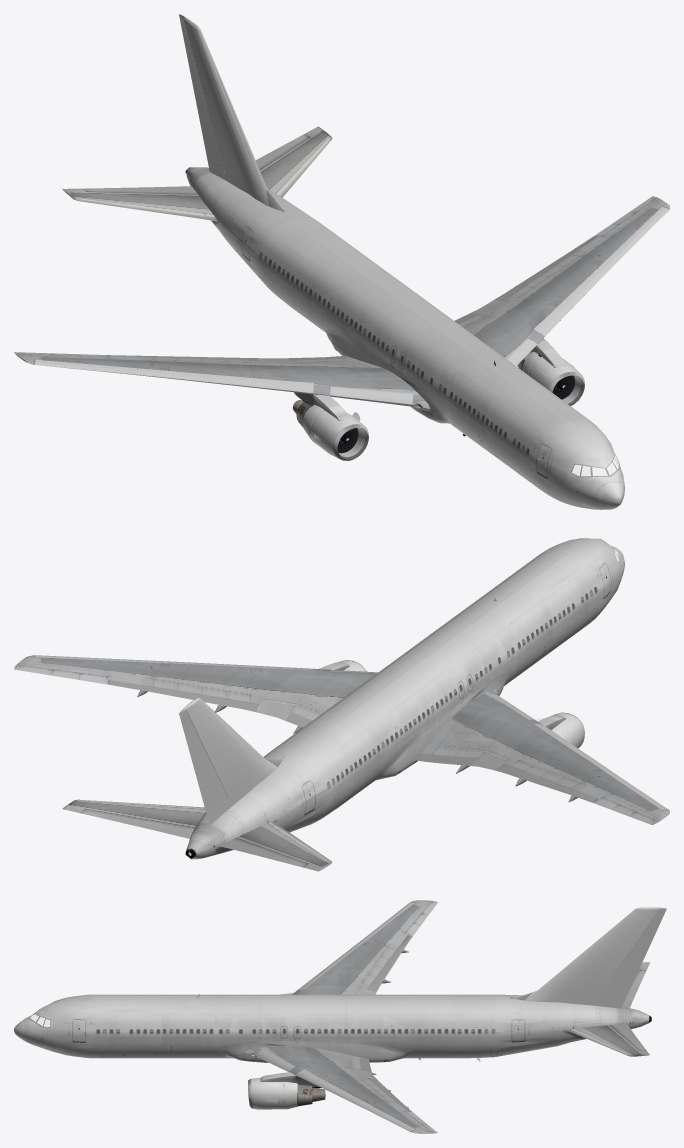
3 renders of one model, top to bottom at view 1: azimuth 30°, elevation 25°; view 2: azimuth 150°, elevation 25°; view 3: azimuth 270°, elevation 25°, orthographic. The views are drawn at different scales.
Parts seen in each view (by area): view 1: Fuselage, RWing.002, LWing.001, VStab.001, RFflapwing2, RHStab, LHStab.001, LFflapwing2, VRudder, RCapaturbofan.003, Glass_Fuselage, RFflapwing1 (+2 smaller); view 2: Fuselage, RWing.002, LWing.001, VStab.001, VRudder, LHStab.001, RHStab, LHStab, Glass_Fuselage, flapr, flap_ext_L, RHelev (+7 smaller); view 3: Fuselage, VStab.001, RWing.002, LWing.001, VRudder, Glass_Fuselage, LHStab.001, LFflapwing2, LCapaturbofan.004, RFflapwing2, LCapaturbofan.001, flap_ext_R (+2 smaller).
Part boxes in pixels (x1,y1,x2,y2): Fuselage: [185, 167, 624, 509]; RWing.002: [14, 352, 430, 411]; LWing.001: [462, 196, 669, 359]; VStab.001: [183, 16, 284, 212]; RFflapwing2: [35, 359, 313, 394]; RHStab: [62, 188, 217, 221]; LHStab.001: [260, 126, 332, 197]; LFflapwing2: [534, 206, 669, 336]; VRudder: [179, 15, 225, 178]; RCapaturbofan.003: [313, 412, 368, 460]; Glass_Fuselage: [258, 255, 527, 457]; RFflapwing1: [330, 387, 413, 406]; Fuselage: [185, 538, 624, 859]; RWing.002: [414, 689, 669, 824]; LWing.001: [14, 655, 376, 714]; VStab.001: [184, 698, 284, 825]; VRudder: [179, 710, 231, 821]; LHStab.001: [62, 799, 205, 826]; RHStab: [238, 821, 332, 871]; LHStab: [82, 809, 195, 838]; Glass_Fuselage: [326, 591, 595, 793]; flapr: [417, 747, 490, 766]; flap_ext_L: [109, 680, 252, 710]; RHelev: [220, 837, 308, 867]; Fuselage: [14, 994, 651, 1062]; VStab.001: [510, 907, 658, 1008]; RWing.002: [292, 900, 437, 994]; LWing.001: [245, 1045, 437, 1133]; VRudder: [593, 909, 666, 1005]; Glass_Fuselage: [99, 1031, 498, 1036]; LHStab.001: [566, 1024, 649, 1056]; LFflapwing2: [296, 1069, 414, 1131]; LCapaturbofan.004: [248, 1077, 278, 1109]; RFflapwing2: [298, 902, 414, 989]; LCapaturbofan.001: [278, 1082, 297, 1109]; flap_ext_R: [369, 935, 411, 990].
Size of what is drawn, in the model's own units: 46.31 by 15.12 by 55.2.
Materials: 27 (21 with a texture image).
